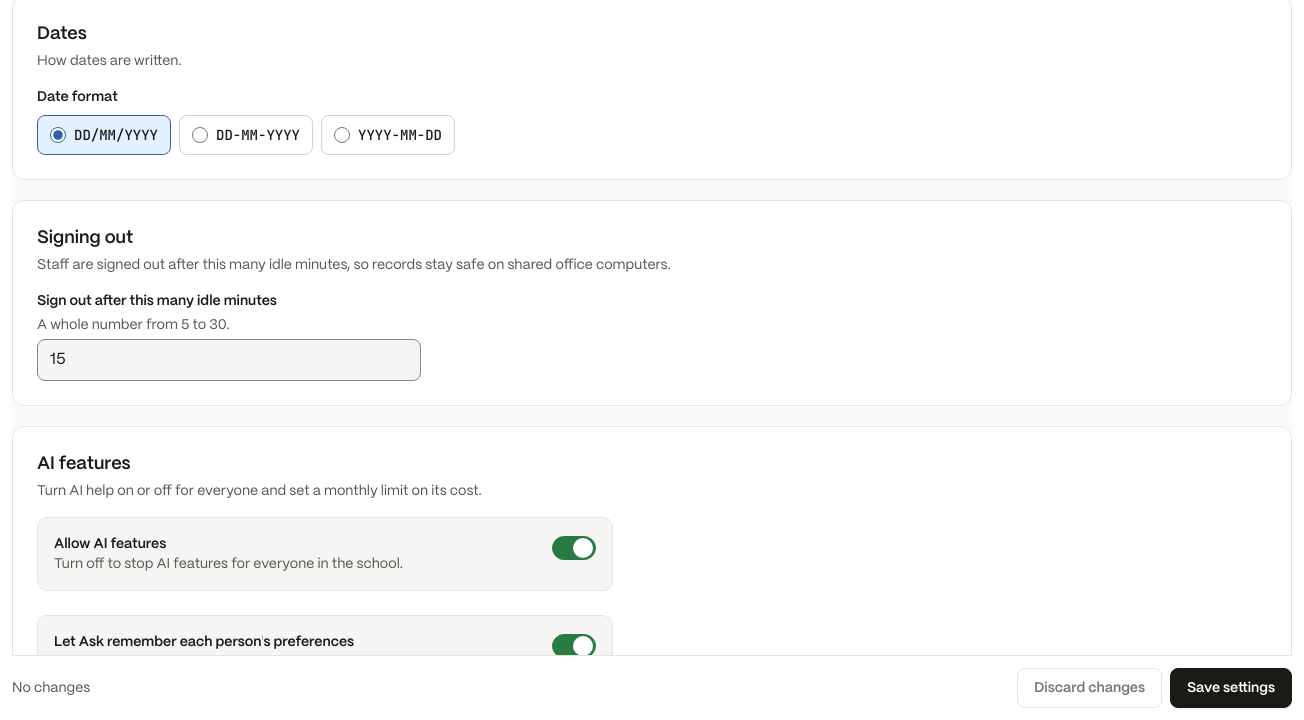
Test: school settings (FR-TEN-012) › saves only the changed settings with If-Match and says step-up may be asked
(page scrolled)
Replace the text in the field labelled "Sign out after this many idle minutes" with "20": (229, 360) [37, 339, 421, 381]
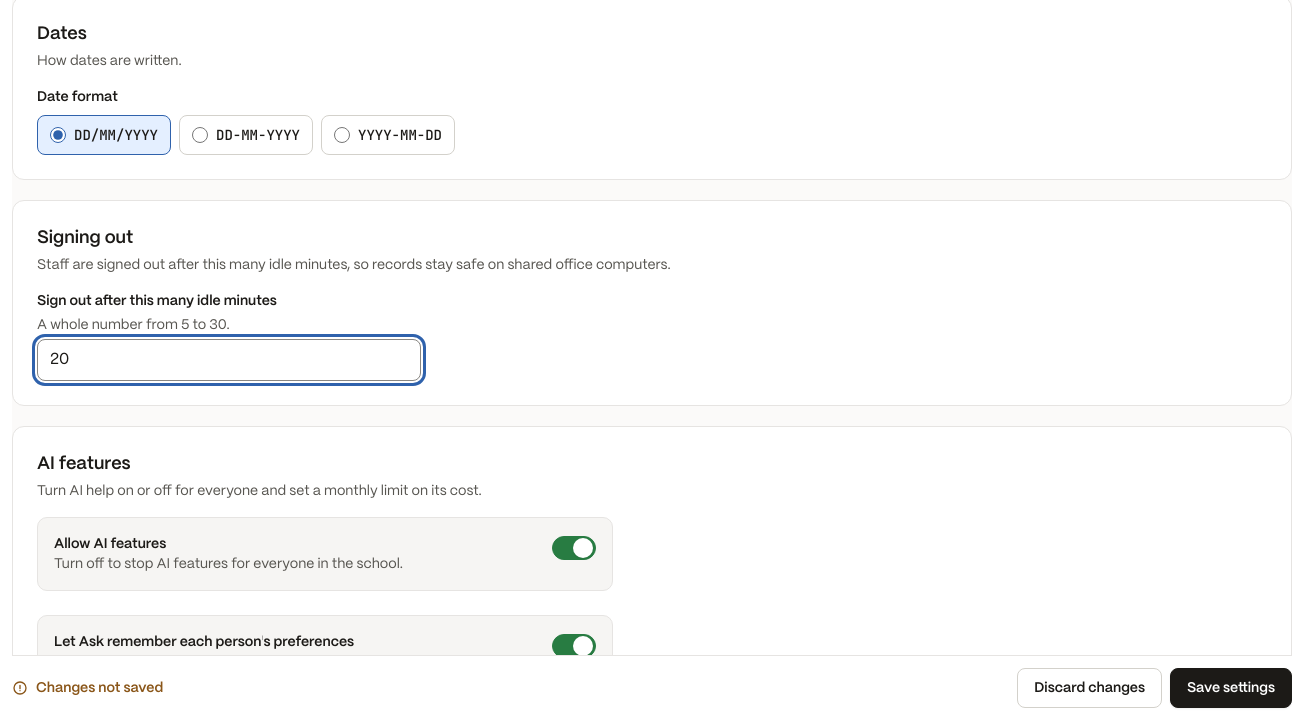
Click the radio button labelled "YYYY-MM-DD": (342, 135) [334, 127, 350, 143]
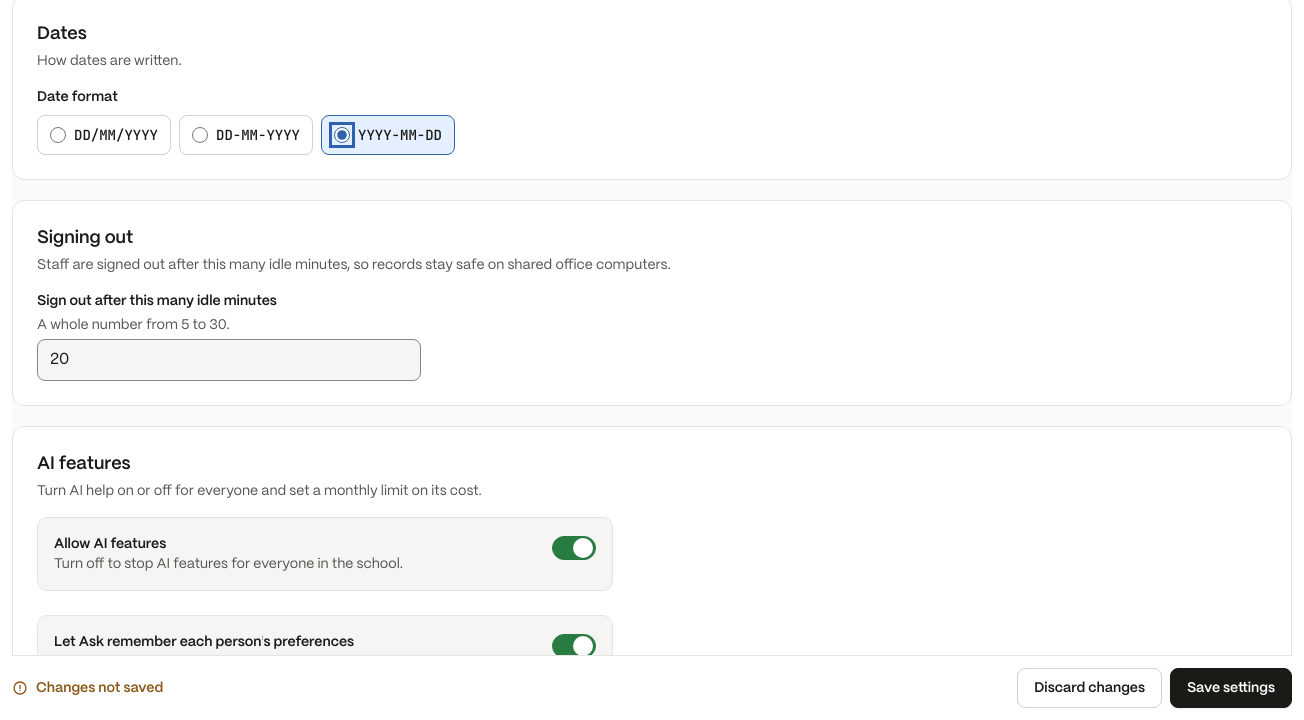
Click the button "Save settings": (1231, 688) [1170, 668, 1292, 708]
(page scrolled)
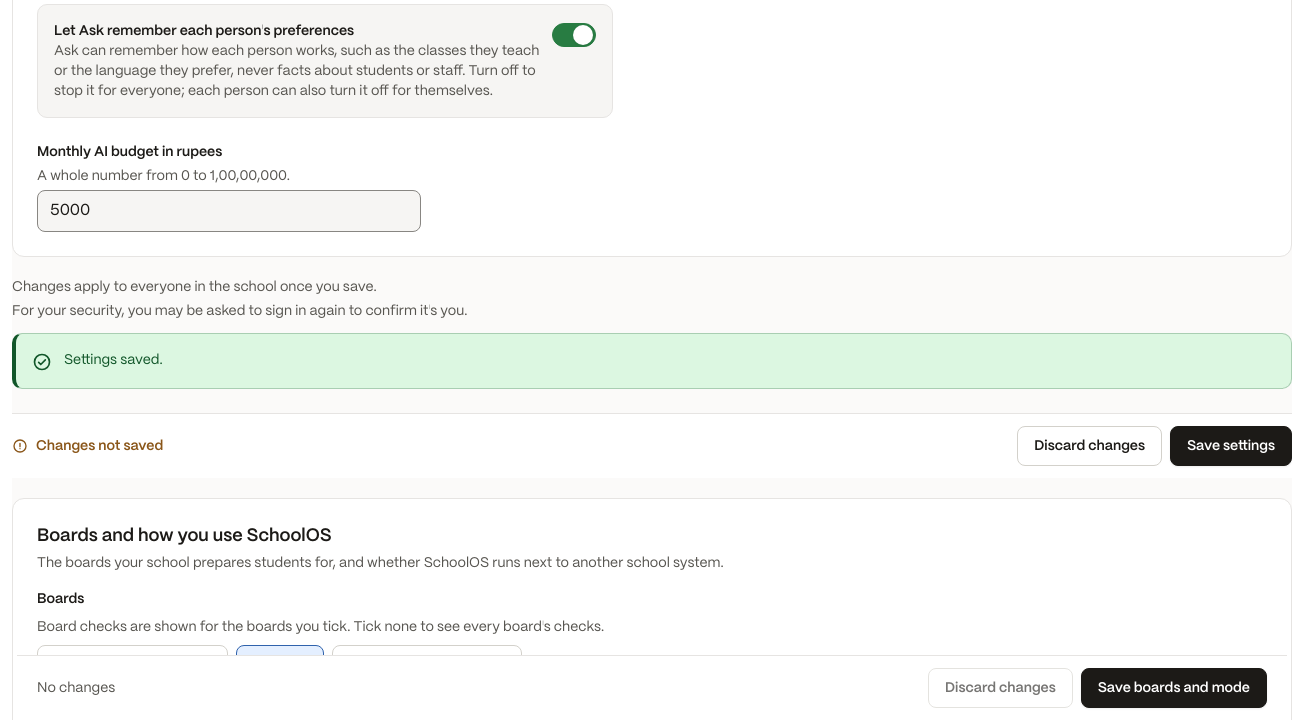
Check: the text "Settings saved." is shown, box [64, 353, 163, 367]
